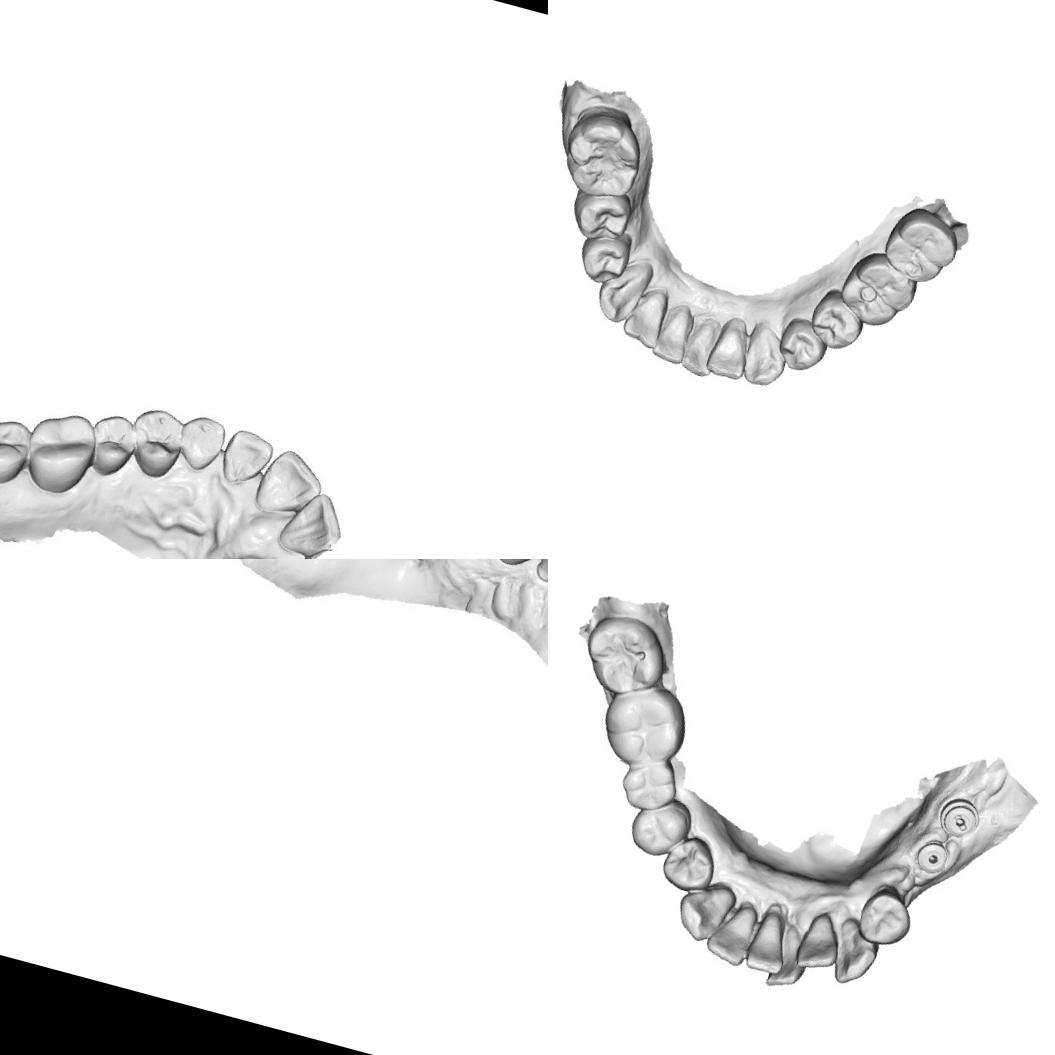canine: (668, 874, 737, 950), (590, 251, 656, 329), (824, 914, 886, 992), (171, 402, 231, 476), (738, 319, 794, 390)
implant: (908, 834, 956, 880)
implant_minus: (936, 793, 986, 842)
incisor: (256, 445, 331, 520), (275, 487, 349, 559), (214, 422, 278, 496), (701, 896, 761, 968), (740, 905, 798, 978), (702, 310, 756, 382), (791, 909, 848, 976), (618, 280, 672, 350), (762, 924, 816, 994), (649, 298, 696, 365), (677, 312, 722, 378)
molar: (554, 98, 652, 206), (598, 680, 692, 772), (14, 408, 102, 501), (834, 244, 924, 334), (877, 200, 965, 290), (576, 613, 667, 700), (613, 754, 682, 822), (0, 413, 37, 490)
premolar: (622, 790, 697, 864), (565, 180, 636, 248), (655, 829, 722, 900), (804, 286, 869, 355), (854, 880, 918, 950), (127, 406, 186, 476), (573, 223, 634, 289), (84, 412, 142, 479), (773, 314, 832, 376)
